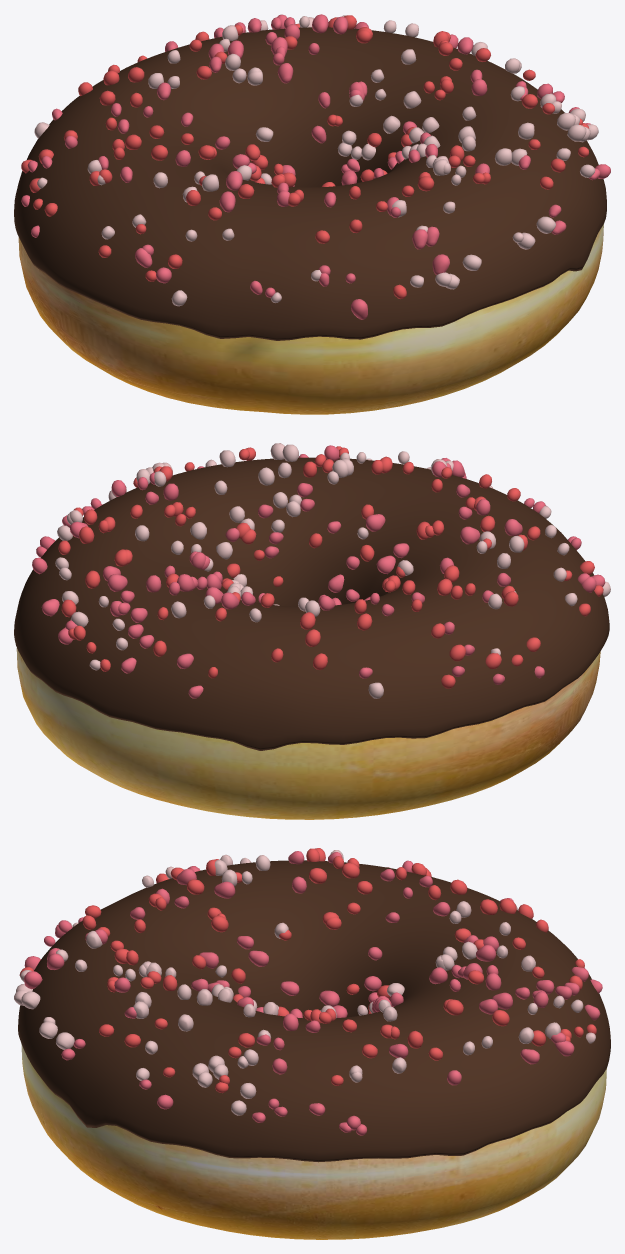
File: dark red and white.glb
3 views of the same model, one above another, from view 1: azimuth 30°, elevation 25°; view 2: azimuth 150°, elevation 25°; view 3: azimuth 270°, elevation 25° (orthographic). The views are drawn at different scales.
Visible parts, largest first — view 1: dark, Torus, red and white; view 2: dark, Torus, red and white; view 3: dark, Torus, red and white.
Boxes of the visible parts, box(x1,y1,x2,y2) form: dark: box(14, 27, 606, 340); Torus: box(18, 224, 603, 414); red and white: box(21, 14, 610, 319); dark: box(14, 457, 609, 750); Torus: box(16, 648, 600, 819); red and white: box(32, 443, 610, 698); dark: box(18, 860, 610, 1162); Torus: box(21, 1044, 606, 1239); red and white: box(14, 848, 602, 1135).
Size of the model in its own units: 0.2 by 0.0774 by 0.1984.
5 materials, 1 textured.
